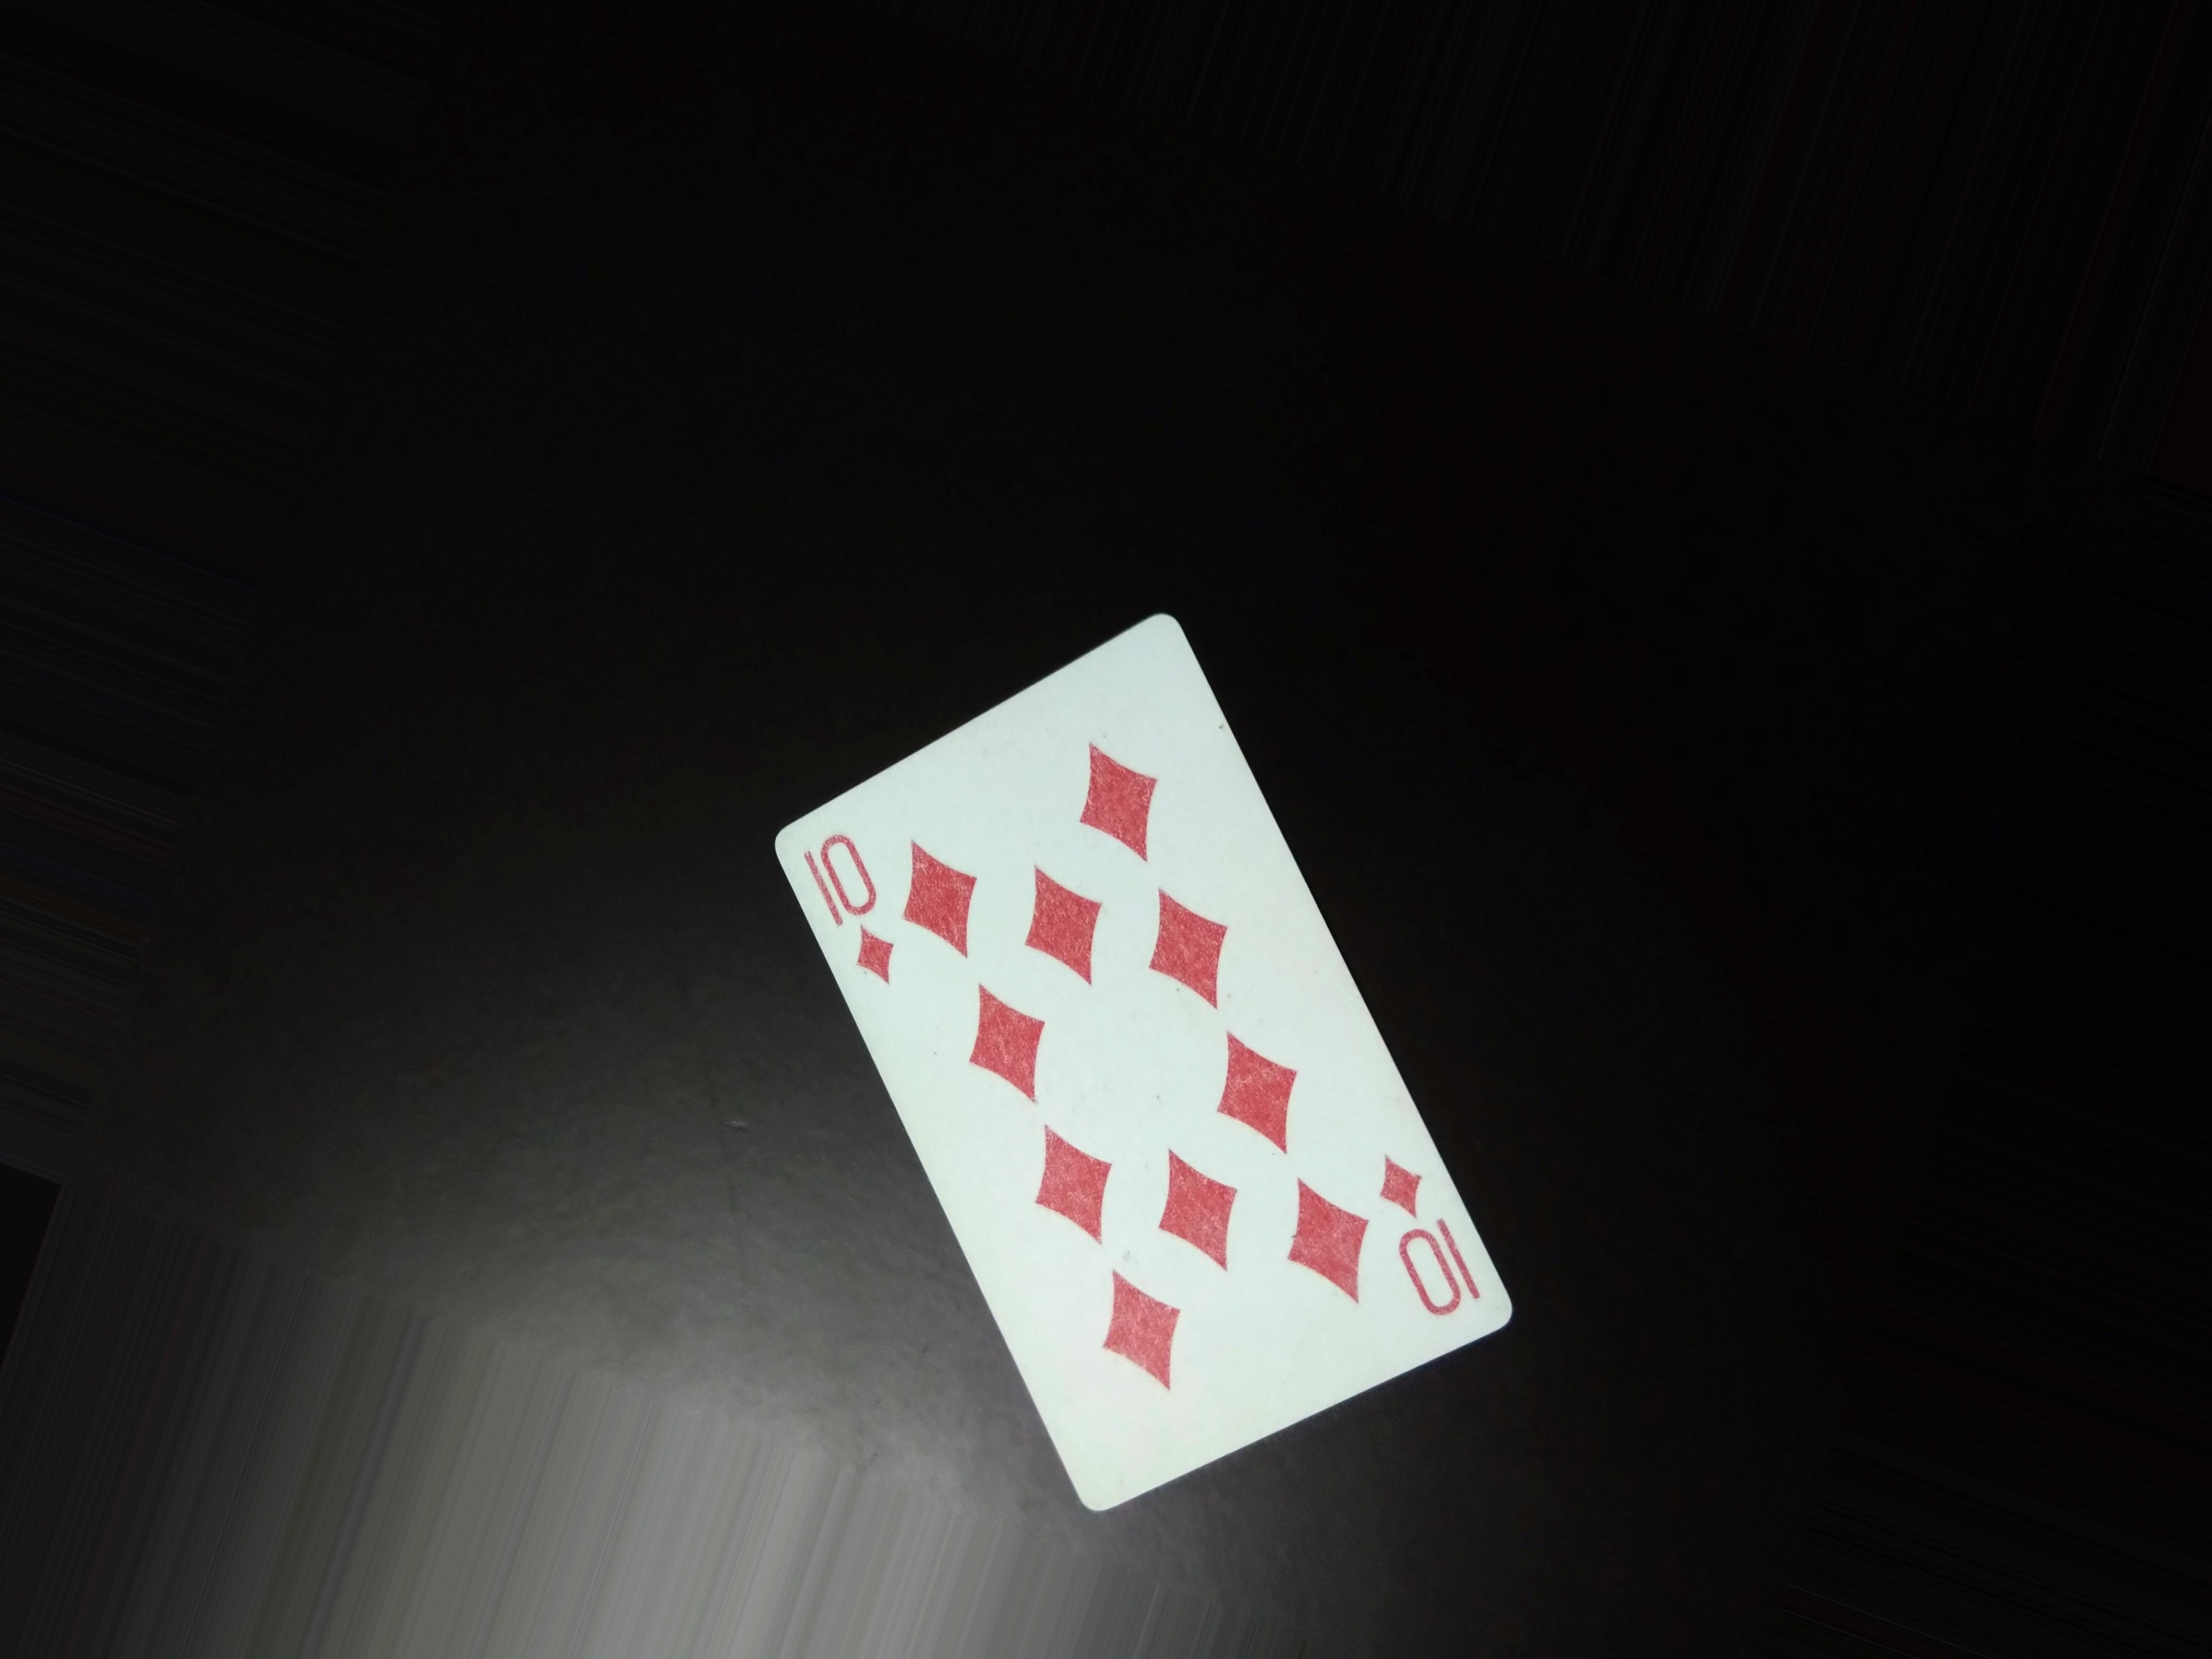10D: (806, 829, 904, 1000)
